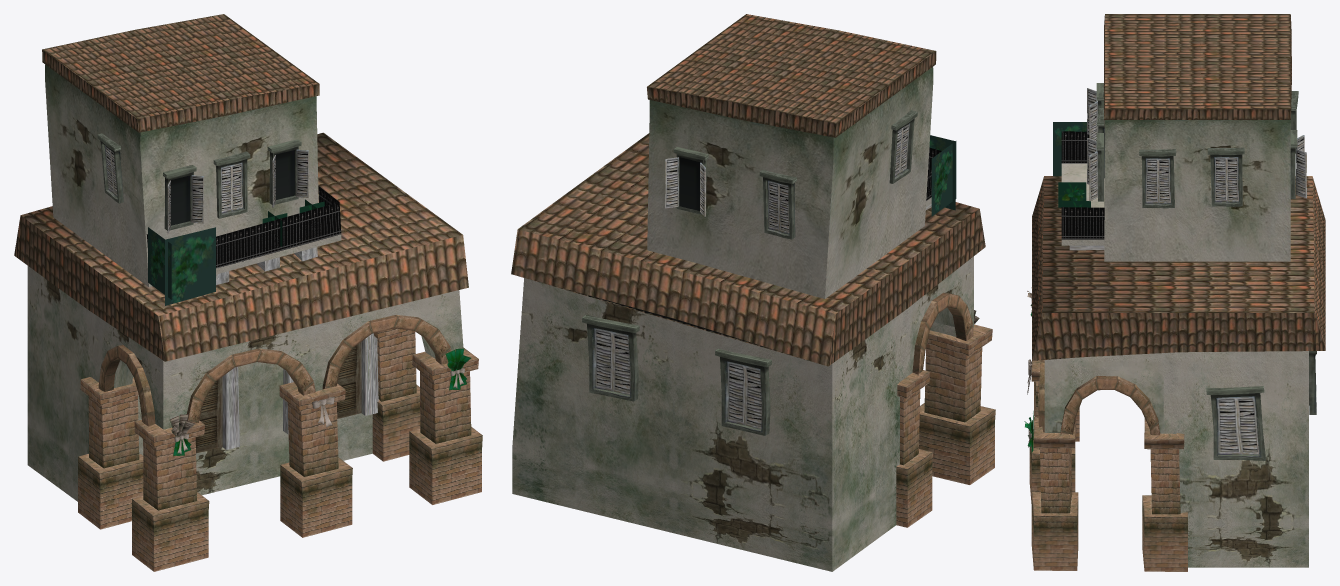
The model's file is spanish_npc_house_l_exterior.fbx.
The picture shows the model from 3 angles, left to right: view 1: azimuth 30°, elevation 25°; view 2: azimuth 150°, elevation 25°; view 3: azimuth 270°, elevation 25°; orthographic projection. The views are drawn at different scales.
Visible parts, largest first — view 1: roof_flat, building_shelll, building_block_c, roof_c, BrickColumnMoss25, BrickColumnMoss26, BrickColumnMoss27, BrickColumnMoss29, BrickColumnMoss28, railing_upstairs1, vines1, Arch6 (+16 smaller); view 2: building_shelll, building_block_c, roof_flat, roof_c, BrickColumnMoss25, BrickColumnMoss29, win_rect_s5_win_frame1, win_rect_s5_win_frame2, win_rect_closed_04, Arch7, vines2, win_rect_closed_03 (+3 smaller); view 3: roof_flat, building_shelll, building_block_c, roof_c, BrickColumnMoss27, BrickColumnMoss28, win_rect_s5_win_frame, railing_upstairs1, Arch8, win_rect_closed_06, win_rect_closed_05, balcony_upstairs.001 (+9 smaller).
Part boxes in pixels (x1,y1,x2,y2): roof_flat: [14, 132, 468, 361]; building_shelll: [27, 266, 463, 501]; building_block_c: [45, 64, 318, 287]; roof_c: [42, 14, 319, 132]; BrickColumnMoss25: [132, 420, 209, 571]; BrickColumnMoss26: [279, 382, 352, 537]; BrickColumnMoss27: [409, 347, 482, 504]; BrickColumnMoss29: [78, 377, 143, 529]; BrickColumnMoss28: [372, 328, 420, 461]; railing_upstairs1: [146, 186, 341, 268]; vines1: [165, 227, 215, 305]; Arch6: [187, 348, 315, 423]; building_shelll: [512, 256, 973, 571]; building_block_c: [647, 67, 933, 298]; roof_flat: [511, 133, 985, 366]; roof_c: [647, 14, 936, 137]; BrickColumnMoss25: [919, 324, 995, 484]; BrickColumnMoss29: [896, 370, 933, 527]; win_rect_s5_win_frame1: [582, 315, 639, 401]; win_rect_s5_win_frame2: [715, 348, 771, 435]; win_rect_closed_04: [759, 170, 796, 239]; Arch7: [912, 292, 973, 374]; vines2: [931, 141, 956, 216]; win_rect_closed_03: [889, 110, 917, 183]; roof_flat: [1032, 176, 1325, 360]; building_shelll: [1044, 351, 1308, 567]; building_block_c: [1104, 120, 1290, 261]; roof_c: [1104, 14, 1291, 119]; BrickColumnMoss27: [1031, 417, 1078, 570]; BrickColumnMoss28: [1142, 418, 1187, 571]; win_rect_s5_win_frame: [1206, 386, 1265, 460]; railing_upstairs1: [1061, 131, 1104, 239]; Arch8: [1060, 376, 1160, 435]; win_rect_closed_06: [1139, 149, 1176, 208]; win_rect_closed_05: [1207, 147, 1244, 206]; balcony_upstairs.001: [1061, 163, 1104, 245].
Bounding box in the file's own units: 3942 × 4776 × 3182.
4 materials, 4 textured.
